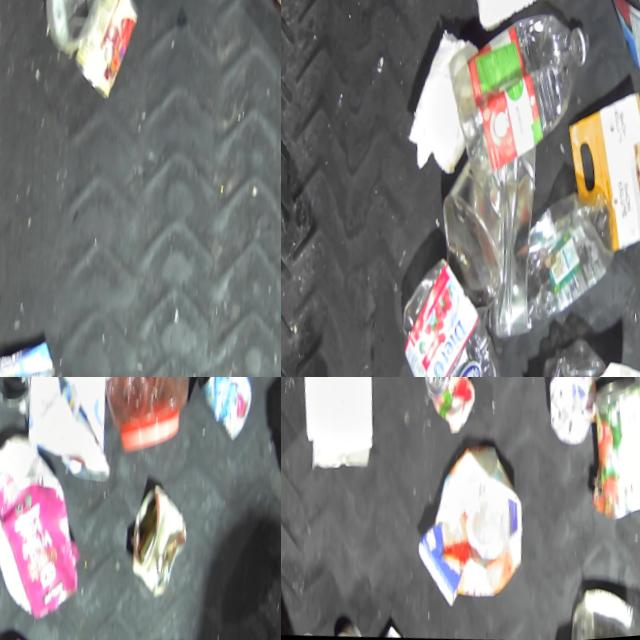can: (417, 146, 540, 350), (567, 377, 640, 536), (109, 483, 186, 611), (61, 0, 148, 110), (179, 377, 252, 455), (405, 377, 478, 441), (319, 620, 355, 640)
non_white_jug: (371, 247, 517, 377), (0, 430, 86, 634)
plastic_bottle: (430, 0, 598, 198), (509, 186, 617, 337), (552, 582, 640, 640)
